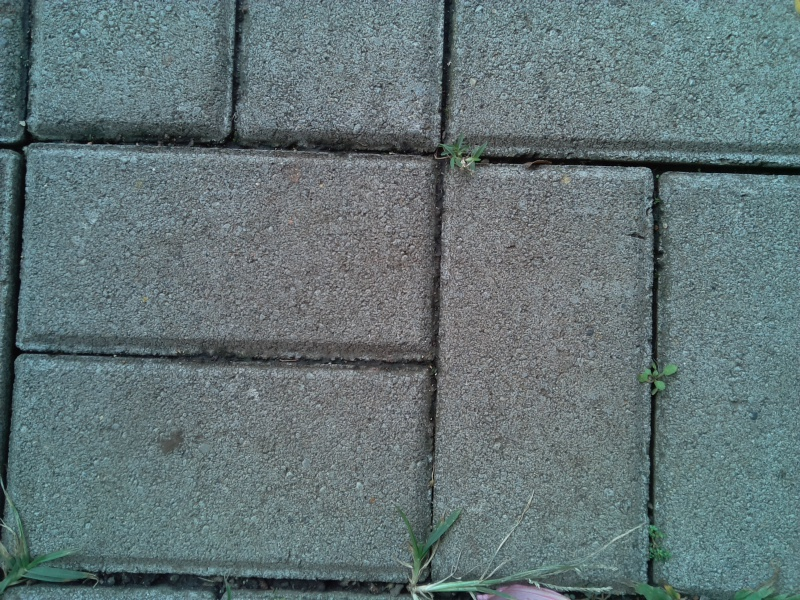Weed: (1, 478, 93, 599), (402, 553, 604, 600), (388, 508, 454, 581), (429, 132, 489, 180), (641, 516, 680, 570), (633, 356, 682, 398)
